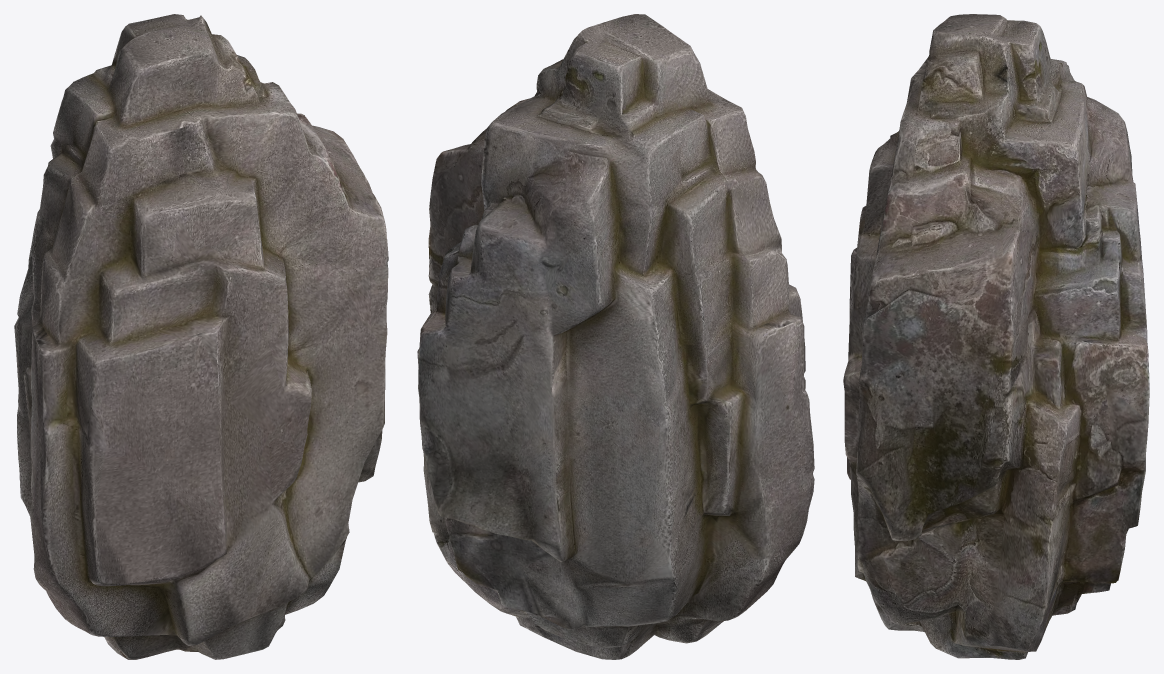
File: JiaShanShi_4.glb
3 views of the same model, side by side, from view 1: azimuth 30°, elevation 25°; view 2: azimuth 150°, elevation 25°; view 3: azimuth 270°, elevation 25° (orthographic).
Parts seen in each view (by area): view 1: tripo_node_e20f40c6-8d92-4825-be05-cdfe4f50bf57; view 2: tripo_node_e20f40c6-8d92-4825-be05-cdfe4f50bf57; view 3: tripo_node_e20f40c6-8d92-4825-be05-cdfe4f50bf57.
Part boxes in pixels (x1,y1,x2,y2): tripo_node_e20f40c6-8d92-4825-be05-cdfe4f50bf57: (14,14,388,659); tripo_node_e20f40c6-8d92-4825-be05-cdfe4f50bf57: (417,14,814,659); tripo_node_e20f40c6-8d92-4825-be05-cdfe4f50bf57: (843,14,1149,659).
Size of the model in its own units: 0.5918 by 0.998 by 0.459.
1 material, 1 textured.
